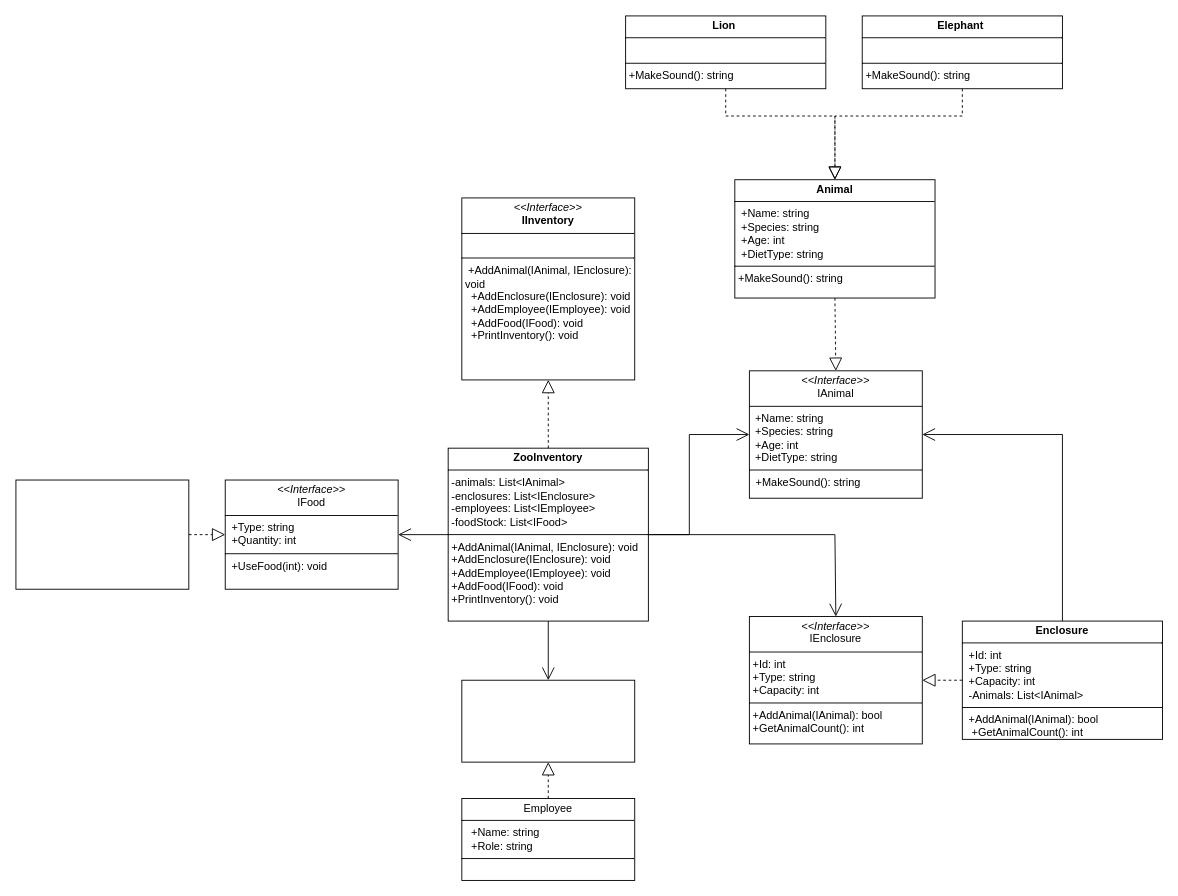
Some shapes in this 1178 by 896 pixel diagram are drawn without their labels. The centre of each missing label's shape, as x and y in pixels:
"<<Interface>> IEmployee +Name: string +Role: string" belongs at pixel 548 720.
"Food +Type: string +Quantity: int +UseFood(int): void" belongs at pixel 102 534.
